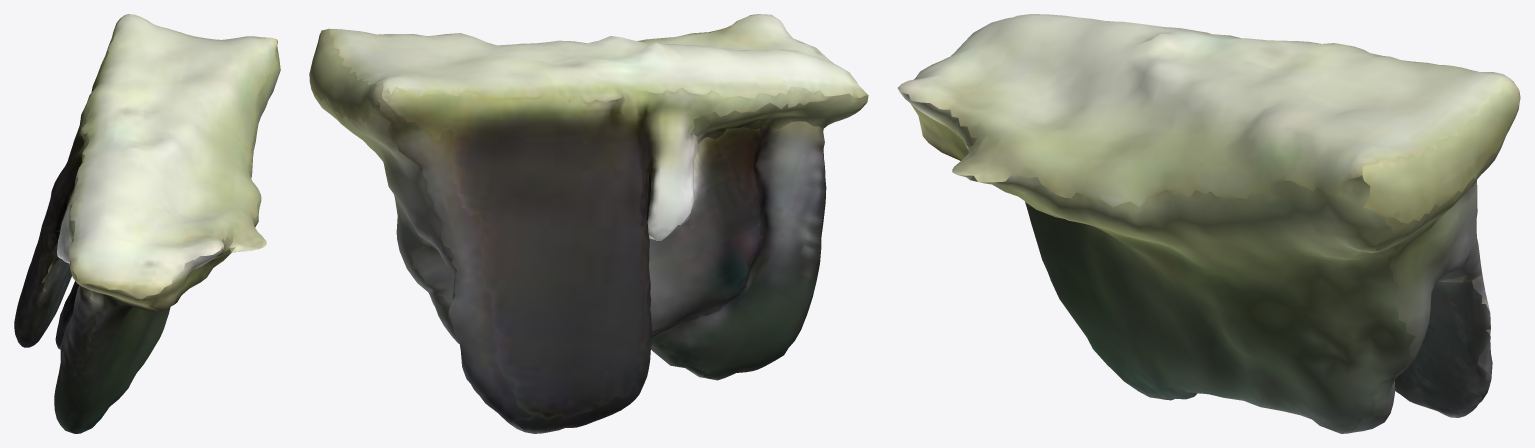
Rendered from 14_chair.glb.
The picture shows the model from 3 angles, left to right: view 1: azimuth 30°, elevation 25°; view 2: azimuth 150°, elevation 25°; view 3: azimuth 270°, elevation 25°; orthographic projection. The views are drawn at different scales.
Visible parts, largest first — view 1: 14_chair; view 2: 14_chair; view 3: 14_chair.
Part boxes in pixels (x1=…): 14_chair: x1=14, y1=14, x2=280, y2=433; 14_chair: x1=309, y1=14, x2=868, y2=433; 14_chair: x1=897, y1=14, x2=1520, y2=433.
Bounding box in the file's own units: 0.4196 × 0.3544 × 0.4587.
Materials: 1 (1 with a texture image).
